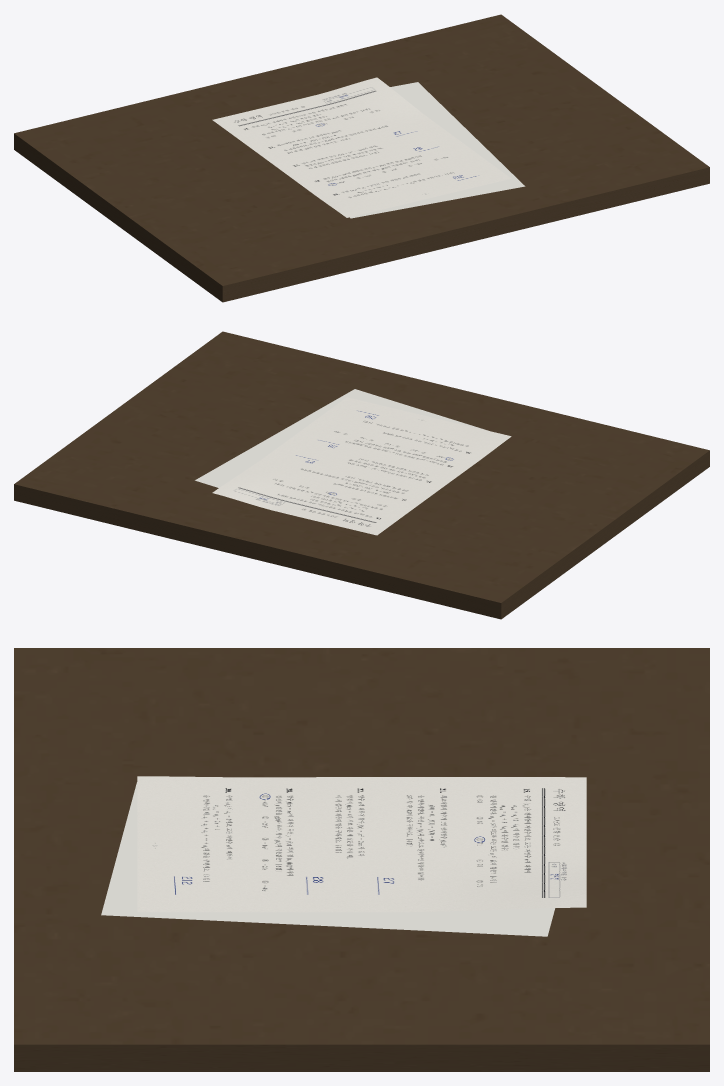
Rendered from practice.glb.
3 renders of one model, top to bottom at view 1: azimuth 30°, elevation 25°; view 2: azimuth 150°, elevation 25°; view 3: azimuth 270°, elevation 25°, orthographic. The views are drawn at different scales.
Parts seen in each view (by area): view 1: practice_desk, practice_sheet; view 2: practice_desk, practice_sheet; view 3: practice_desk, practice_sheet.
Part boxes in pixels (x1=…): practice_desk: x1=14, y1=14, x2=709, y2=302; practice_sheet: x1=212, y1=77, x2=511, y2=217; practice_desk: x1=14, y1=331, x2=709, y2=619; practice_sheet: x1=212, y1=397, x2=511, y2=535; practice_desk: x1=14, y1=648, x2=709, y2=1071; practice_sheet: x1=137, y1=776, x2=586, y2=912.
Bounding box in the file's own units: 0.62 × 0.0242 × 0.46.
3 materials, 2 textured.
